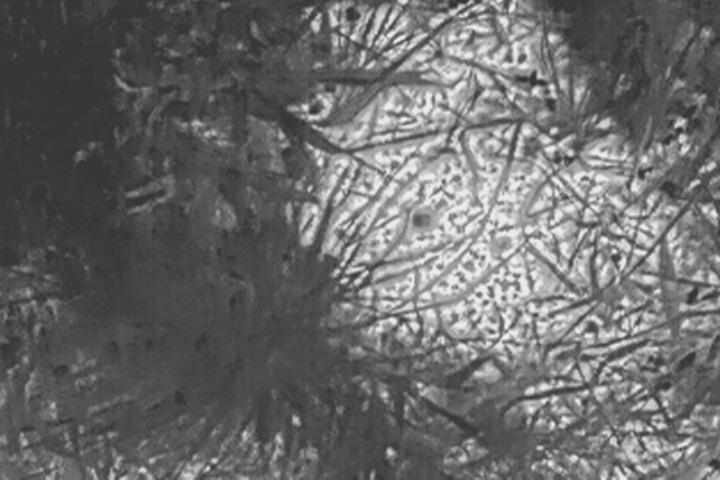landmine: (402, 205, 443, 236)
